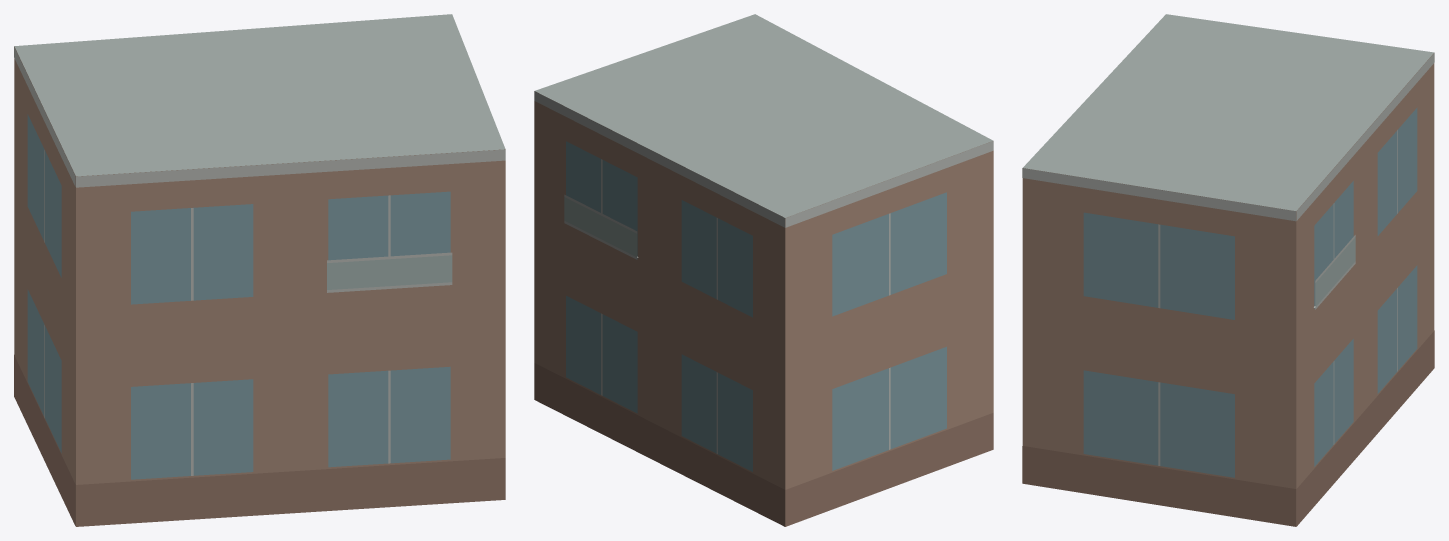
The model's file is survey-upis-32559620.glb.
3 views of the same model, side by side, from view 1: azimuth 30°, elevation 25°; view 2: azimuth 150°, elevation 25°; view 3: azimuth 270°, elevation 25° (orthographic). The views are drawn at different scales.
Parts seen in each view (by area): view 1: survey-upis-32559620.tmp; view 2: survey-upis-32559620.tmp; view 3: survey-upis-32559620.tmp.
Boxes of the visible parts, x1=… form: survey-upis-32559620.tmp: x1=14, y1=14, x2=505, y2=526; survey-upis-32559620.tmp: x1=534, y1=14, x2=993, y2=526; survey-upis-32559620.tmp: x1=1022, y1=14, x2=1434, y2=526.
Bounding box in the file's own units: 10.19 × 7.6 × 9.
